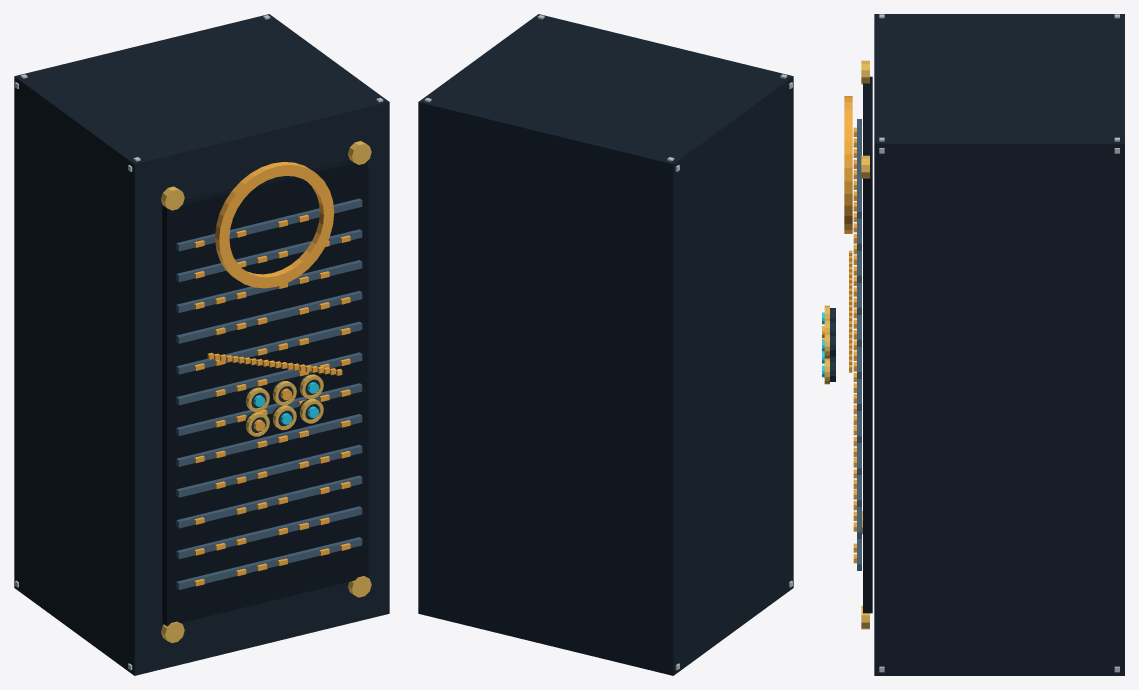
File: 30_L81_RedundantComputeCoreB.fbx
3 views of the same model, side by side, from view 1: azimuth 30°, elevation 25°; view 2: azimuth 150°, elevation 25°; view 3: azimuth 270°, elevation 25° (orthographic). The views are drawn at different scales.
Parts seen in each view (by area): view 1: RedundantComputeCoreB; view 2: RedundantComputeCoreB; view 3: RedundantComputeCoreB.
Boxes of the visible parts, x1,y1,x2,y2 form: RedundantComputeCoreB: (14,14,389,675); RedundantComputeCoreB: (418,14,793,675); RedundantComputeCoreB: (822,14,1124,675).
Bounding box in the file's own units: 144 × 274 × 140.
